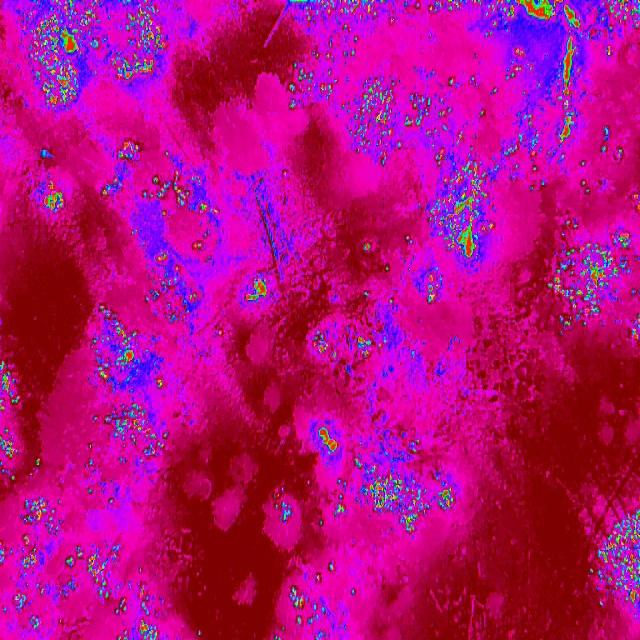fire: (0, 450, 173, 640), (269, 406, 466, 563), (444, 47, 628, 199), (285, 0, 640, 65), (290, 61, 450, 170), (19, 0, 169, 114), (542, 211, 640, 359), (85, 306, 176, 464), (421, 137, 503, 275), (271, 556, 360, 640), (585, 505, 640, 627), (140, 168, 224, 228), (142, 239, 206, 310), (308, 320, 386, 368), (0, 362, 23, 488), (26, 178, 70, 220), (240, 278, 278, 312), (105, 134, 148, 164)
